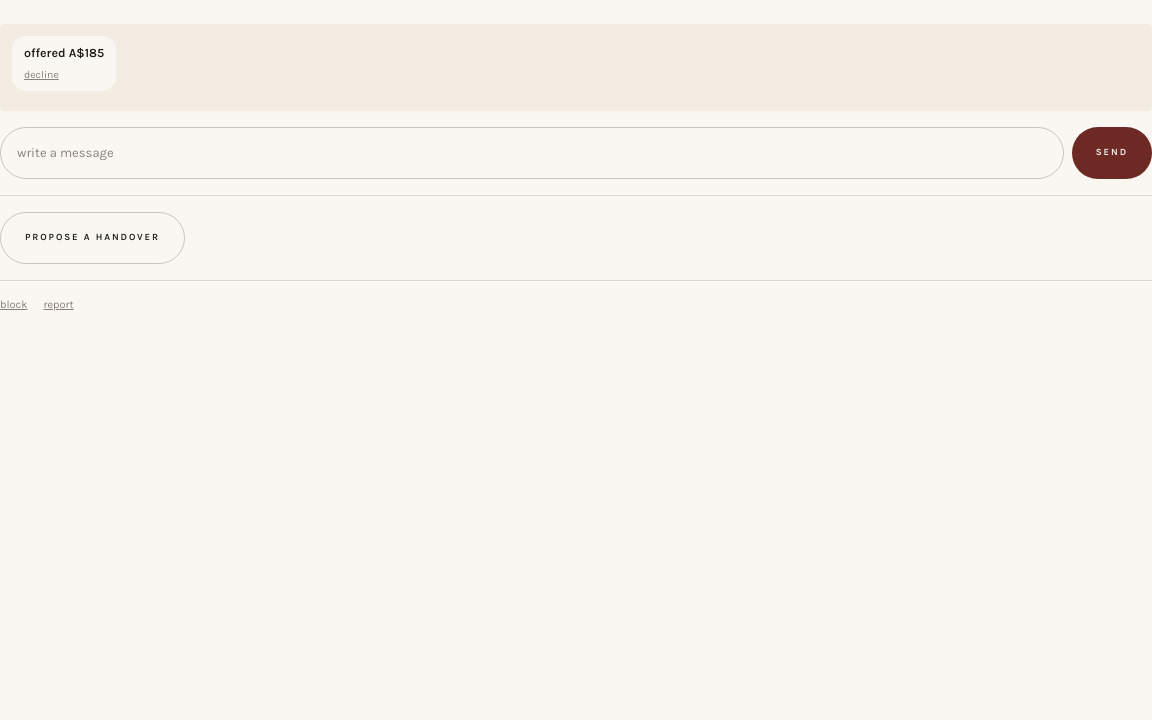
Test case: ThreadView block and report › offers decline on a pending offer message from the counterpart
Click the button "decline" at (41, 75), box [24,67,59,83]
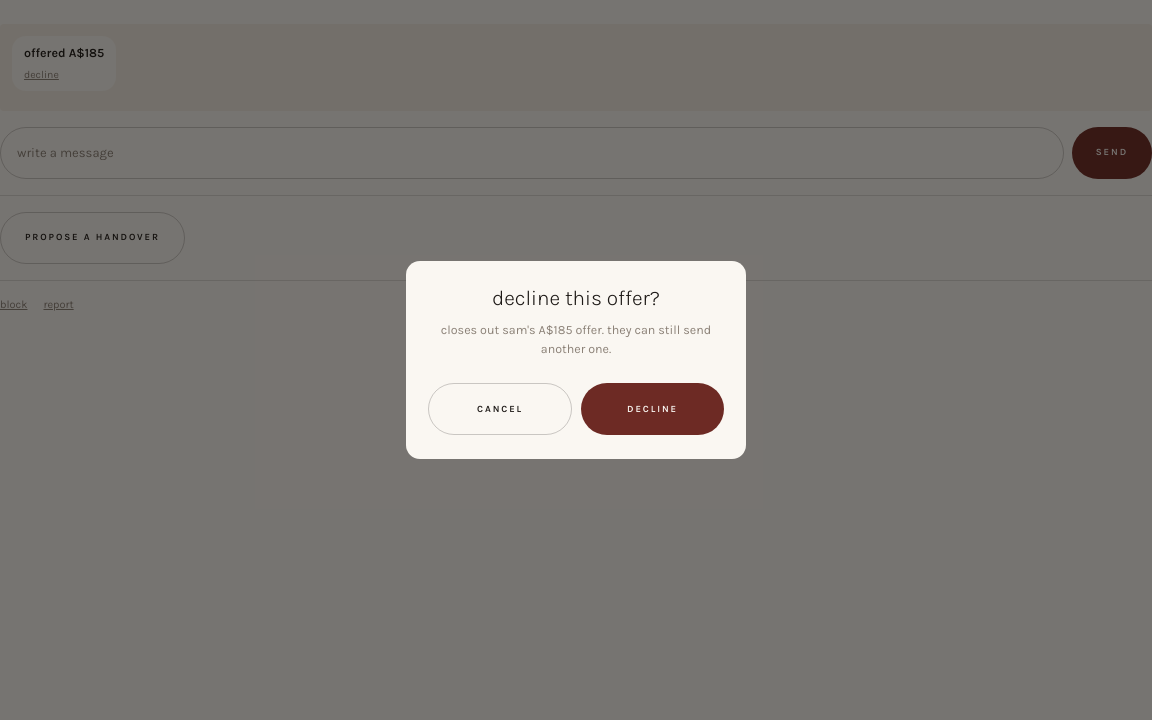
Expected: the text "decline this offer?" is shown, [492,286,660,310]
